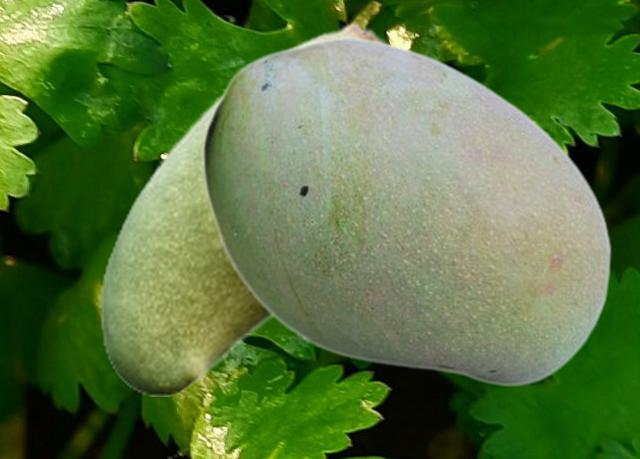green_mango: (201, 35, 611, 386), (99, 21, 392, 395)
